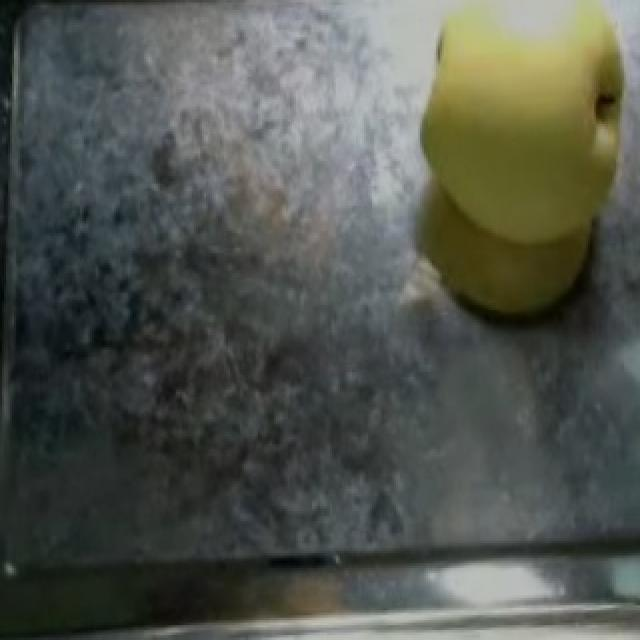Fruit: (380, 0, 640, 335)
